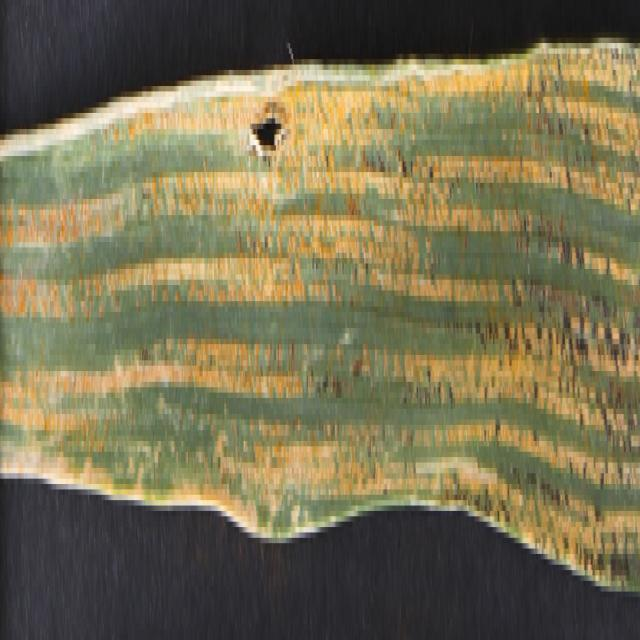leaf rust: (1, 38, 640, 586)
